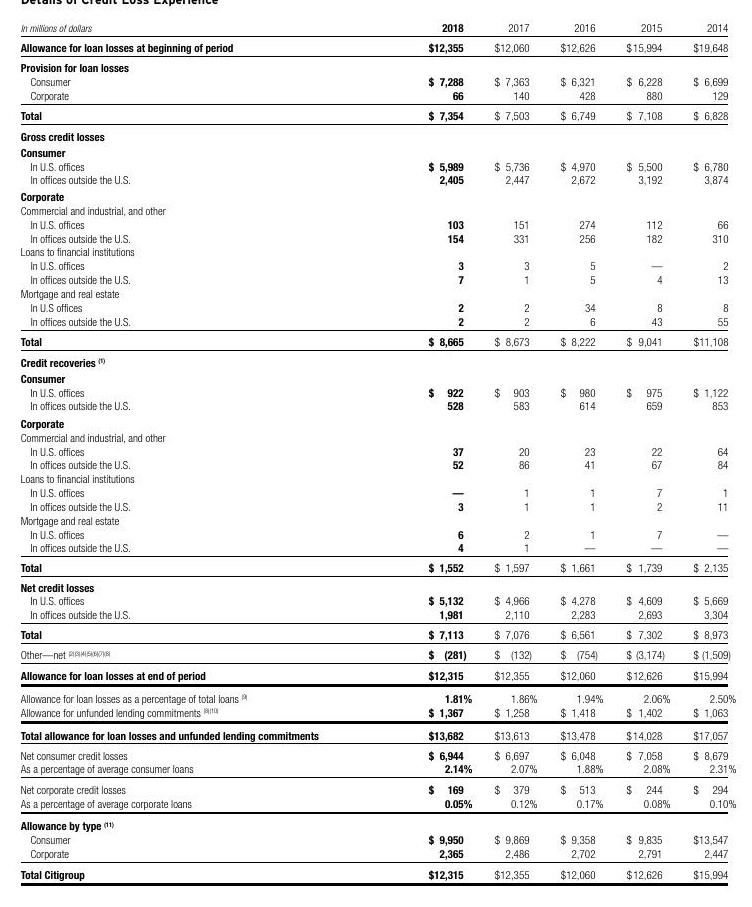table: (0, 0, 752, 907)
